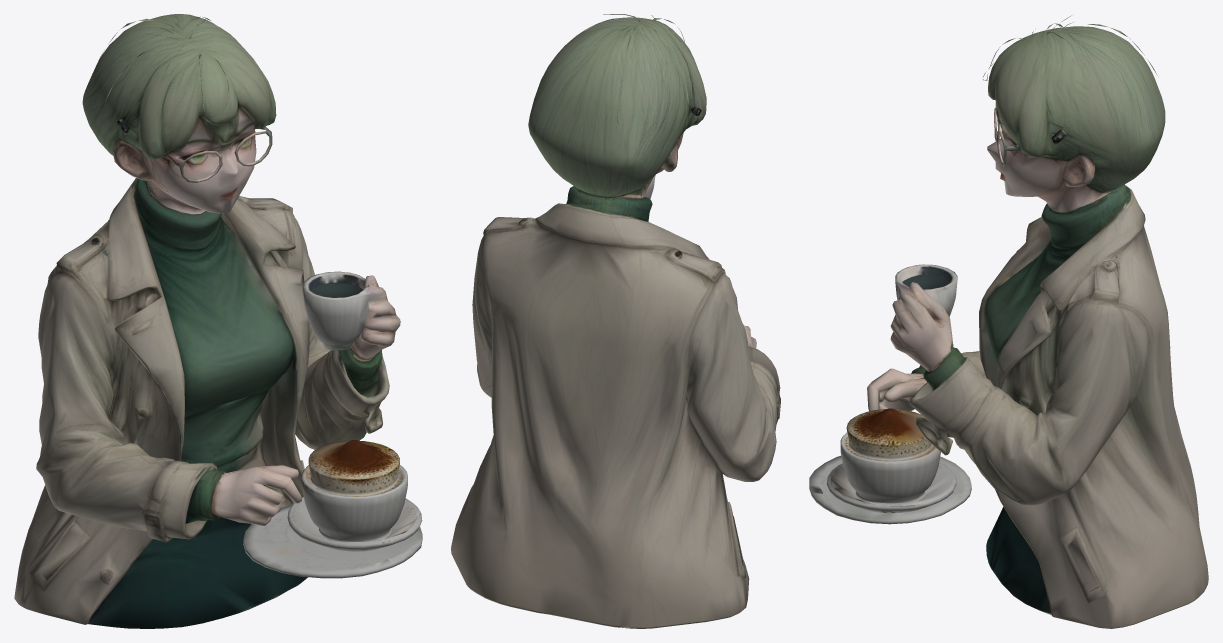
3 renders of one model, left to right at view 1: azimuth 30°, elevation 25°; view 2: azimuth 150°, elevation 25°; view 3: azimuth 270°, elevation 25°, orthographic. The views are drawn at different scales.
Visible parts, largest first — view 1: material; view 2: material; view 3: material.
Part boxes in pixels (x1,y1,x2,y2): material: [14, 14, 422, 628]; material: [451, 14, 780, 628]; material: [809, 15, 1208, 628].
Size of the model in its own units: 1.06 by 1.9 by 1.3.
1 material, 1 textured.
